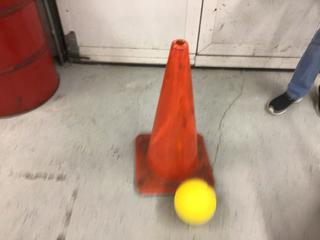power_cell: (174, 175, 220, 224)
